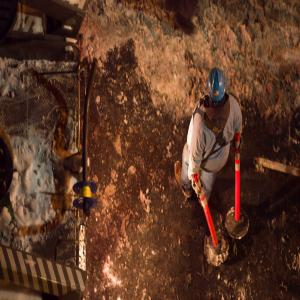blue: (208, 68, 227, 107)
